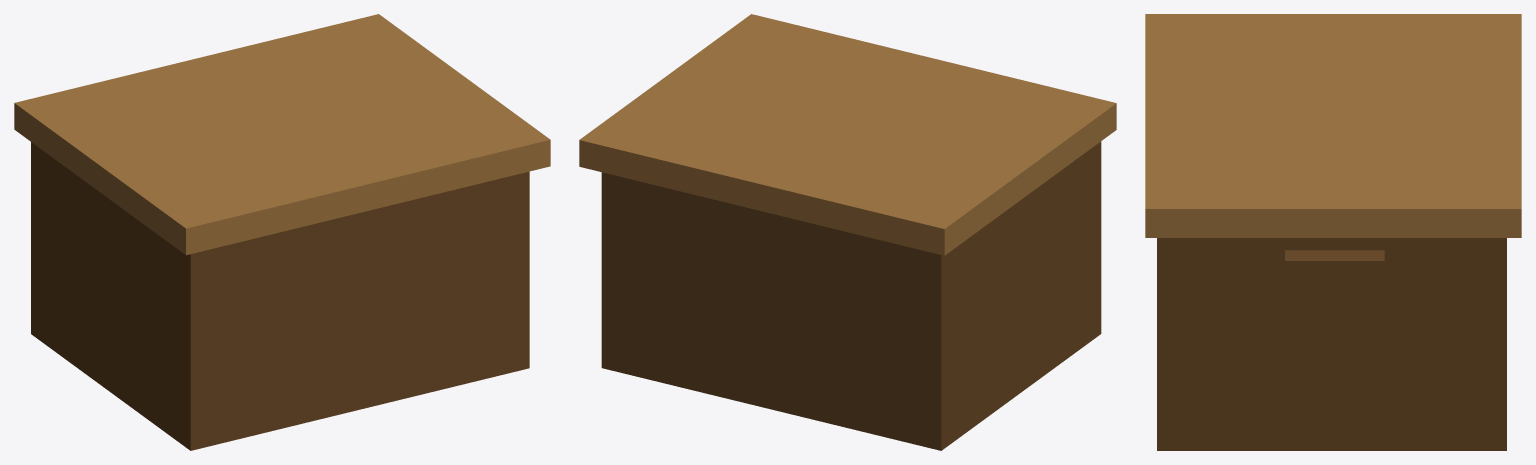
The model's file is Pappbox_med_lokk.fbx.
3 renders of one model, left to right at view 1: azimuth 30°, elevation 25°; view 2: azimuth 150°, elevation 25°; view 3: azimuth 270°, elevation 25°, orthographic. The views are drawn at different scales.
Visible parts, largest first — view 1: Cube.004, Cube.001; view 2: Cube.004, Cube.001; view 3: Cube.001, Cube.004.
Boxes of the visible parts, bbox=[...] form: Cube.004: bbox=[31, 142, 529, 450]; Cube.001: bbox=[14, 14, 550, 255]; Cube.004: bbox=[601, 141, 1101, 450]; Cube.001: bbox=[579, 14, 1116, 255]; Cube.001: bbox=[1145, 14, 1521, 237]; Cube.004: bbox=[1157, 238, 1506, 450].
Size of the model in its own units: 59.84 by 35.87 by 48.84.
